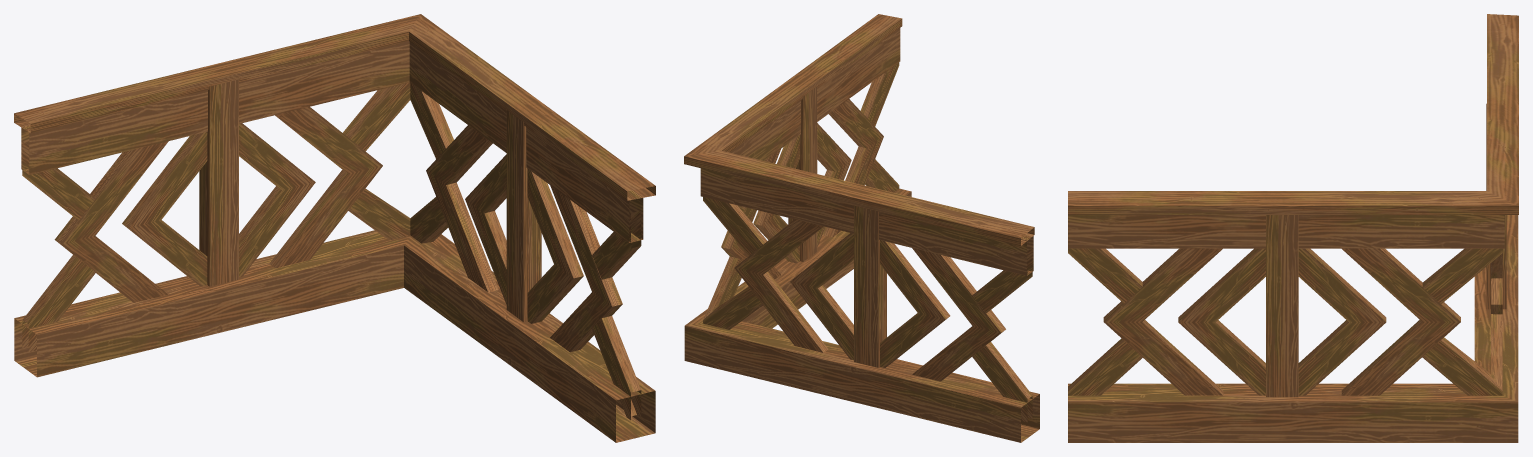
The model's file is Balcony_Cross_Corner.gltf.
The picture shows the model from 3 angles, left to right: view 1: azimuth 30°, elevation 25°; view 2: azimuth 150°, elevation 25°; view 3: azimuth 270°, elevation 25°; orthographic projection. The views are drawn at different scales.
Visible parts, largest first — view 1: Balcony_Cross_Corner; view 2: Balcony_Cross_Corner; view 3: Balcony_Cross_Corner.
Part boxes in pixels (<box>): Balcony_Cross_Corner: <box>14,14,655,442</box>; Balcony_Cross_Corner: <box>684,14,1039,442</box>; Balcony_Cross_Corner: <box>1068,14,1518,442</box>.
Size of the model in its own units: 2.1 by 1.23 by 2.1.
1 material, 1 textured.
